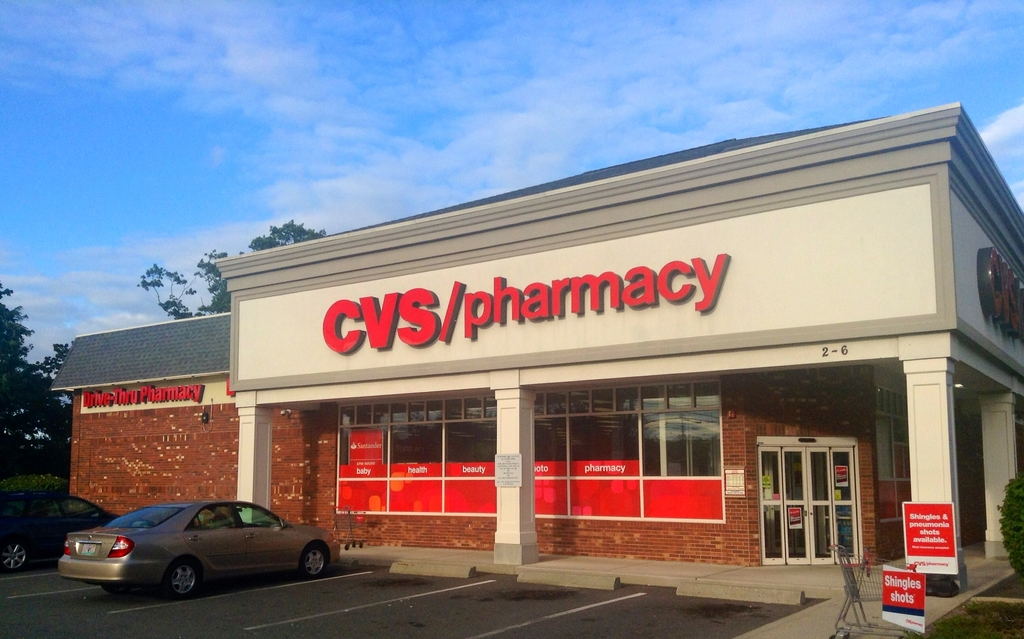Car: (58, 501, 339, 601), (0, 482, 134, 582)
